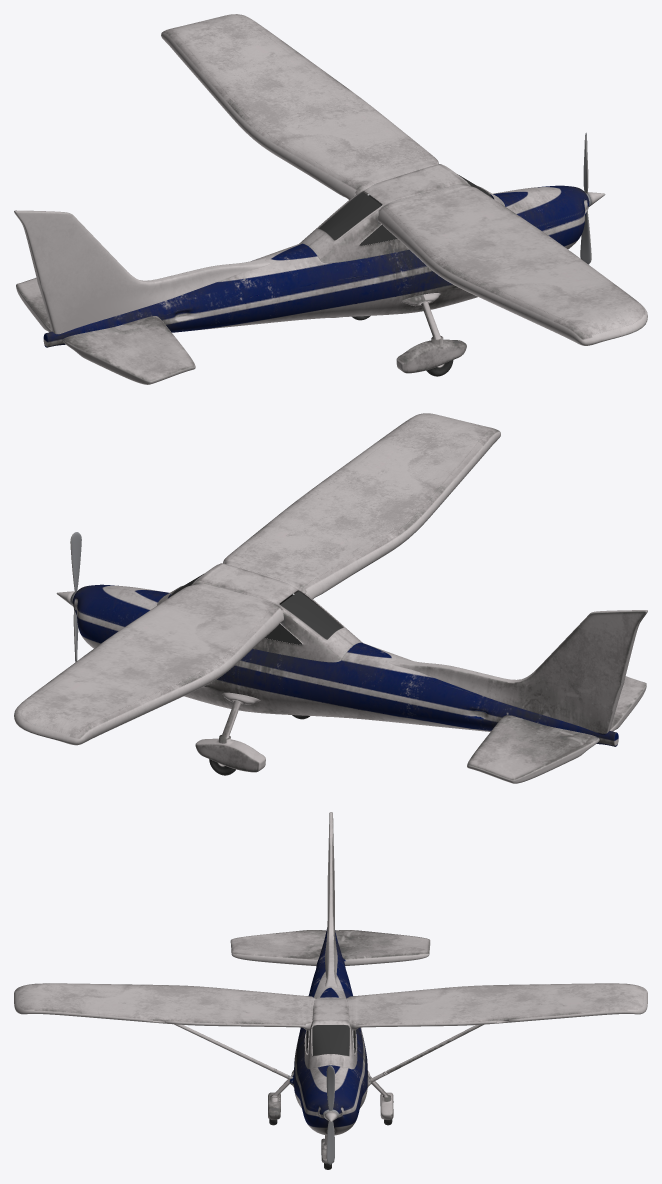
Rendered from cessna172.glb.
The picture shows the model from 3 angles, top to bottom: view 1: azimuth 30°, elevation 25°; view 2: azimuth 150°, elevation 25°; view 3: azimuth 270°, elevation 25°; orthographic projection. The views are drawn at different scales.
Visible parts, largest first — view 1: cockpit, cockpit_plane_0.001; view 2: cockpit, cockpit_plane_0.001; view 3: cockpit, cockpit_plane_0.001.
Boxes of the visible parts, x1,y1,x2,y2 form: cockpit: [14, 14, 605, 384]; cockpit_plane_0.001: [45, 33, 647, 347]; cockpit: [14, 532, 647, 783]; cockpit_plane_0.001: [14, 413, 616, 744]; cockpit: [230, 812, 645, 1164]; cockpit_plane_0.001: [14, 927, 647, 1169].
Size of the model in its own units: 14.04 by 5.23 by 17.49.
1 material, 1 textured.
